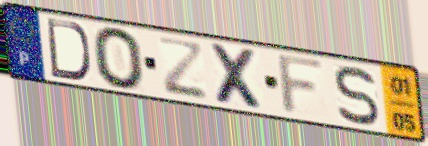D: (44, 16, 93, 83)
F: (275, 51, 328, 118)
O: (89, 25, 147, 92)
S: (333, 65, 382, 129)
X: (207, 40, 269, 114)
Z: (155, 34, 209, 103)
